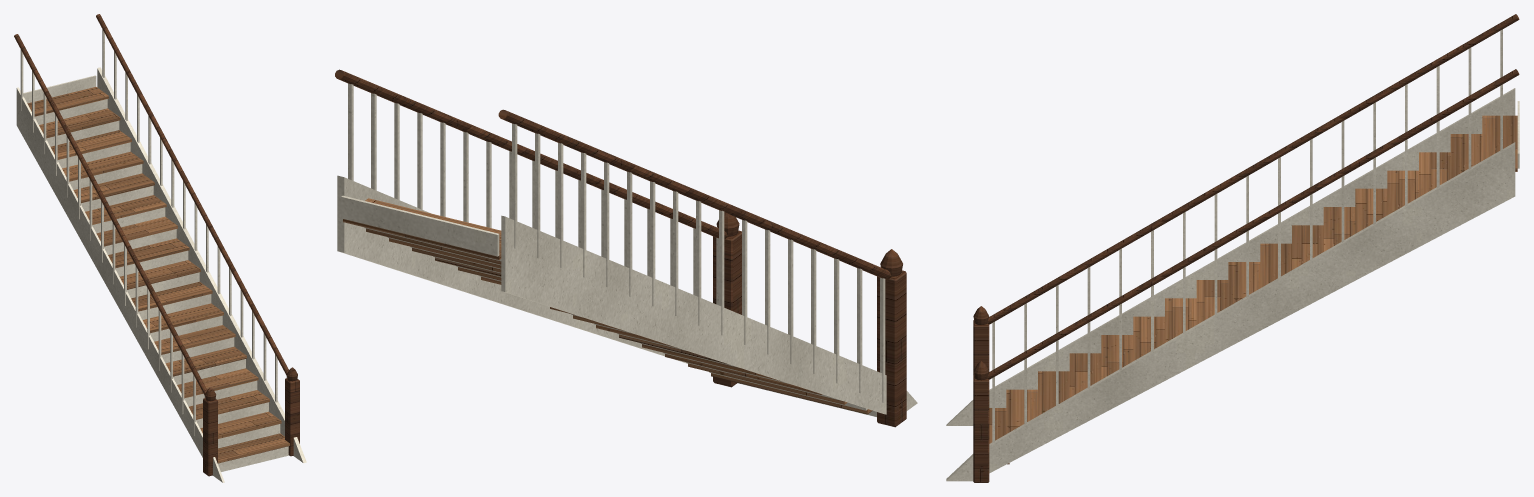
Rendered from stair_both.glb.
The picture shows the model from 3 angles, left to right: view 1: azimuth 30°, elevation 25°; view 2: azimuth 150°, elevation 25°; view 3: azimuth 270°, elevation 25°; orthographic projection. The views are drawn at different scales.
Visible parts, largest first — view 1: stair_both_trim, stair_both_floor, stair_both_wood; view 2: stair_both_trim, stair_both_wood, stair_both_floor; view 3: stair_both_trim, stair_both_floor, stair_both_wood.
Boxes of the visible parts, <box> form: stair_both_trim: <box>16,29,306,482</box>; stair_both_floor: <box>27,87,289,463</box>; stair_both_wood: <box>14,14,299,476</box>; stair_both_trim: <box>337,83,917,416</box>; stair_both_wood: <box>335,69,906,427</box>; stair_both_floor: <box>343,198,872,414</box>; stair_both_trim: <box>946,29,1519,481</box>; stair_both_floor: <box>989,115,1517,464</box>; stair_both_wood: <box>973,14,1519,482</box>.
Bounding box in the file's own units: 1.29 × 4 × 5.06.
Materials: 3 (3 with a texture image).
